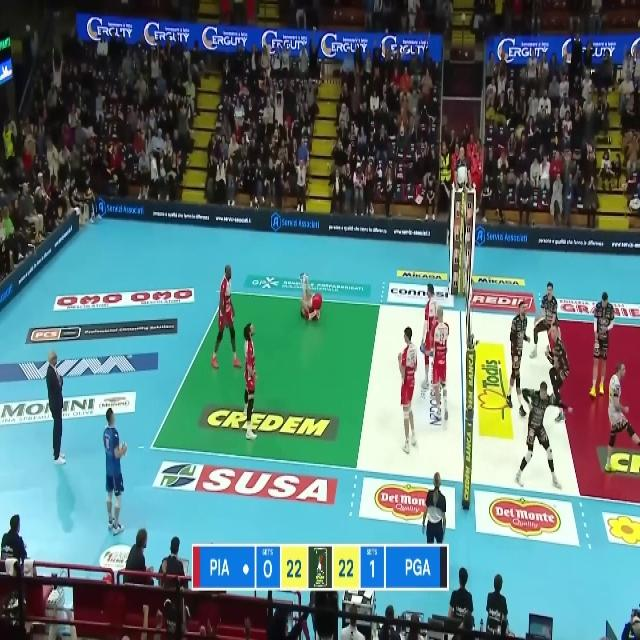volleyball court: (149, 289, 638, 503)
